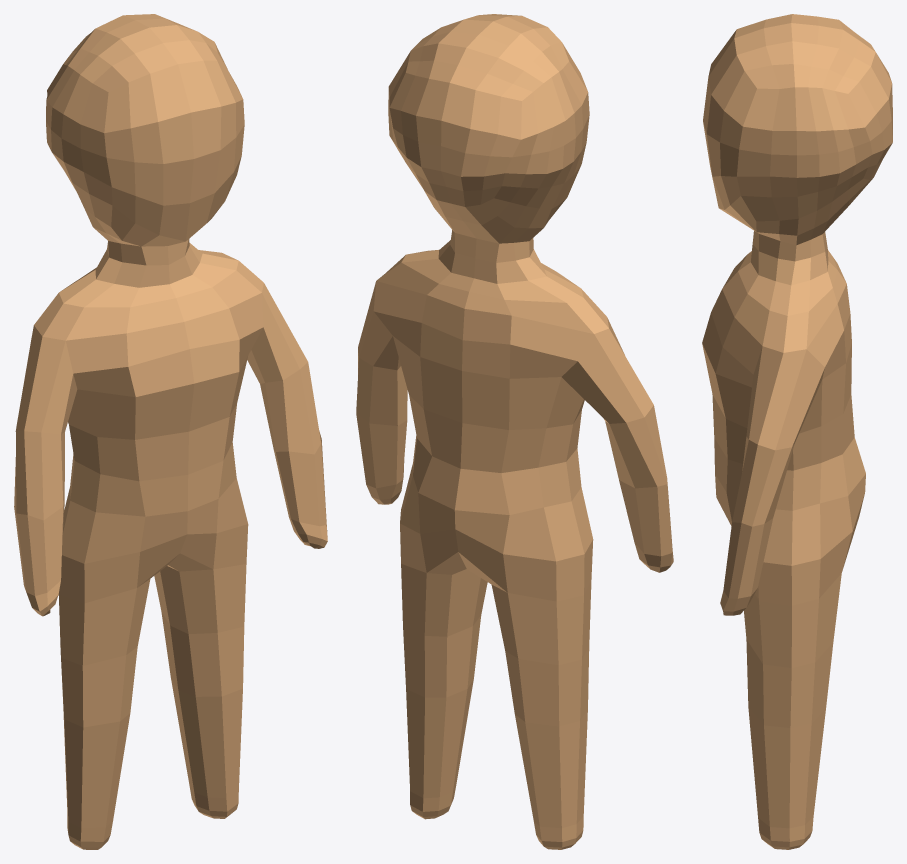
The model's file is Body.fbx.
3 renders of one model, left to right at view 1: azimuth 30°, elevation 25°; view 2: azimuth 150°, elevation 25°; view 3: azimuth 270°, elevation 25°, orthographic. The views are drawn at different scales.
Visible parts, largest first — view 1: Body; view 2: Body; view 3: Body.
Boxes of the visible parts, bbox=[...] form: Body: bbox=[14, 14, 327, 849]; Body: bbox=[356, 14, 673, 849]; Body: bbox=[702, 14, 892, 849].
Size of the model in its own units: 165 by 412 by 89.91.
